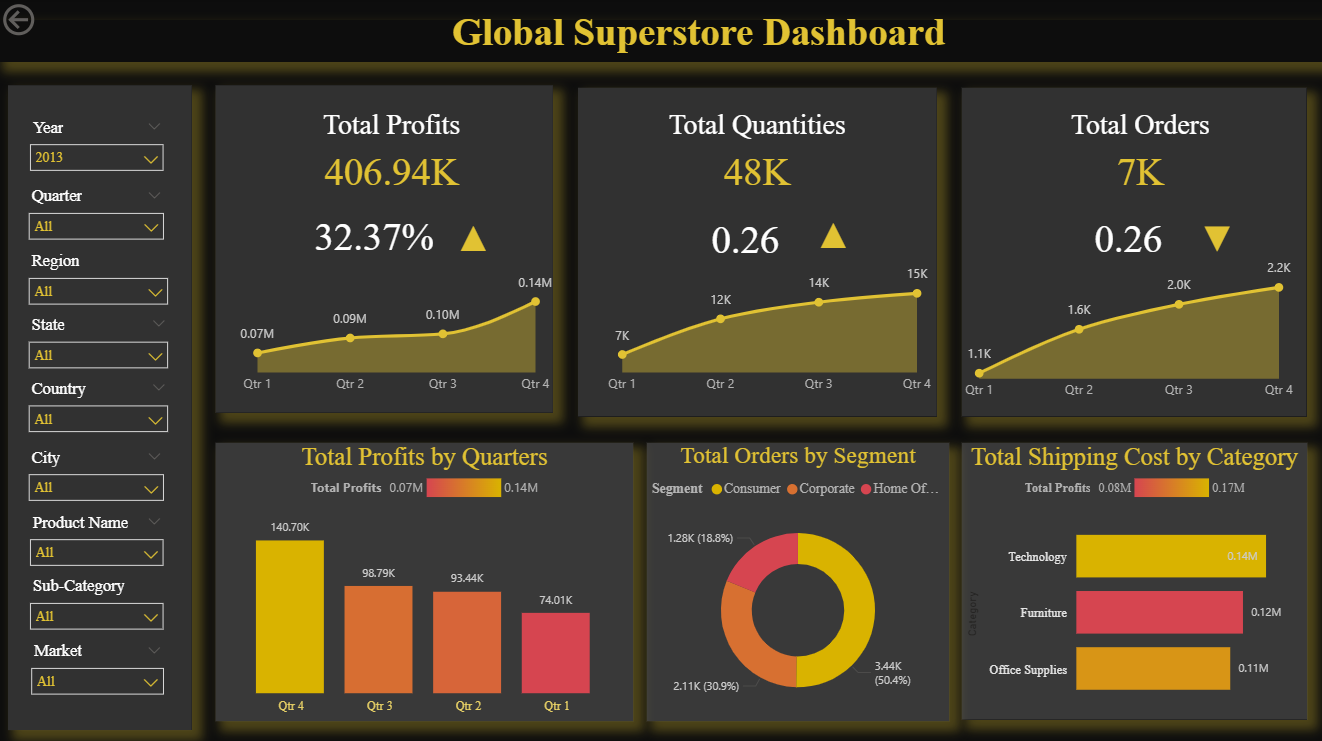

What the dashboard file says about the page in this screenshot:
{"tool":"powerbi","page":{"name":"Dashboard","canvas":[1280,720],"ordinal":1},"visuals":[{"type":"textbox","box":[555,0,331.8,71.2],"z":0},{"type":"shape","box":[0,10.9,1280,39.8],"z":1000},{"type":"shape","box":[209.9,83.2,325.7,316.1],"z":2000},{"type":"cardVisual","title":"Total Profits","fields":{"Data":["Calender.Total Profits"]},"box":[273.9,90.5,212.3,100.1],"z":3000},{"type":"lineChart","title":"Total Profits by Year","fields":{"Category":["calender.Date.Variation.Date Hierarchy.Quarter"],"Y":["Calender.Total Profits"]},"box":[209.9,234,349.9,155.6],"z":4000},{"type":"cardVisual","title":"Total Profits","fields":{"Data":["Calender.%YOY"]},"box":[277.5,183.4,171.3,76],"z":5000},{"type":"shape","box":[559.8,85.7,346.2,317.3],"z":6000},{"type":"cardVisual","title":"Total Profits","fields":{"Data":["Calender.Total Quantities"]},"box":[626.1,90.5,213.5,101.3],"z":7000},{"type":"lineChart","title":"Total Profits by Year","fields":{"Category":["calender.Date.Variation.Date Hierarchy.Quarter"],"Y":["Calender.Total Quantities"]},"box":[559.8,234,370.4,155.6],"z":8000},{"type":"cardVisual","title":"Total Profits","fields":{"Data":["Calender.%YOY Quantitiy"]},"box":[635.8,185.8,171.3,76],"z":9000},{"type":"shape","box":[930.2,85.7,333,317.3],"z":10000},{"type":"cardVisual","title":"Total Profits","fields":{"Data":["Calender.Total orders"]},"box":[990.5,90.5,224.4,101.3],"z":11000},{"type":"lineChart","title":"Total Profits by Year","fields":{"Category":["calender.Date.Variation.Date Hierarchy.Quarter"],"Y":["Calender.Total orders"]},"box":[903.6,241.3,376.4,154.4],"z":12000},{"type":"cardVisual","title":"Total Profits","fields":{"Data":["Calender.%YOY Orders"]},"box":[1005,184.6,172.5,77.2],"z":13000},{"type":"shape","box":[9.7,83.2,177.3,622.5],"z":14000},{"type":"slicer","title":"Total Profits","fields":{"Values":["Orders.State"]},"box":[19.2,300.5,155.1,65.9],"z":15000},{"type":"slicer","title":"Total Profits","fields":{"Values":["Orders.City"]},"box":[19.2,428.1,150.9,63.1],"z":16000},{"type":"slicer","title":"Total Profits","fields":{"Values":["Orders.Country"]},"box":[19.2,362.3,155.1,65.9],"z":17000},{"type":"slicer","title":"Total Profits","fields":{"Values":["calender.Date.Variation.Date Hierarchy.Year"]},"box":[20.6,109.8,149.6,65.9],"z":18000},{"type":"slicer","title":"Total Profits","fields":{"Values":["Orders.Sub-Category"]},"box":[20.6,553,149.6,61.7],"z":19000},{"type":"slicer","title":"Total Profits","fields":{"Values":["Orders.Region"]},"box":[19.2,238.8,155.1,61.7],"z":20000},{"type":"slicer","title":"Total Profits","fields":{"Values":["calender.Date.Variation.Date Hierarchy.Quarter"]},"box":[19.2,175.6,150.9,61.7],"z":21000},{"type":"slicer","title":"Total Profits","fields":{"Values":["Orders.Product Name"]},"box":[20.6,491.3,149.6,61.7],"z":22000},{"type":"slicer","title":"Total Profits","fields":{"Values":["Orders.Market"]},"box":[22,614.8,148.2,61.7],"z":23000},{"type":"clusteredColumnChart","title":"Total Profits by Quarters","fields":{"Y":["Calender.Total Profits"],"Category":["calender.Date.Variation.Date Hierarchy.Quarter"]},"box":[209.9,428.1,403.4,269],"z":24000},{"type":"actionButton","box":[0,0,100,40],"z":25000},{"type":"donutChart","title":"Total Orders by Segment","fields":{"Category":["Orders.Segment"],"Y":["Calender.Total orders"]},"box":[625.7,428.1,292.3,269],"z":26000},{"type":"clusteredBarChart","title":"Total Shipping Cost by Category","fields":{"Category":["Orders.Category"],"Y":["Sum(Orders.Shipping Cost)"]},"box":[930.4,428.1,333.4,267.6],"z":27000},{"type":"cardVisual","fields":{"Data":["Orders.arrow1"]},"box":[424.7,184.6,68.8,85.7],"z":28000},{"type":"cardVisual","fields":{"Data":["Orders.arrow2"]},"box":[772.1,182.2,68.8,85.7],"z":29000},{"type":"cardVisual","fields":{"Data":["Orders.arrow3"]},"box":[1142.5,184.6,68.8,85.7],"z":30000}]}

Visuals, with their boxes in screenshot pixels (x1, y1, x2, y2), scaled from the page's 1280x720 canvas onto the 1322x741 screenshot:
textbox: (left=573, top=0, right=916, bottom=73)
shape: (left=0, top=11, right=1321, bottom=52)
shape: (left=217, top=86, right=553, bottom=411)
"Total Profits" cardVisual: (left=283, top=93, right=502, bottom=196)
"Total Profits by Year" lineChart: (left=217, top=241, right=578, bottom=401)
"Total Profits" cardVisual: (left=287, top=189, right=464, bottom=267)
shape: (left=578, top=88, right=936, bottom=415)
"Total Profits" cardVisual: (left=647, top=93, right=867, bottom=197)
"Total Profits by Year" lineChart: (left=578, top=241, right=961, bottom=401)
"Total Profits" cardVisual: (left=657, top=191, right=834, bottom=269)
shape: (left=961, top=88, right=1305, bottom=415)
"Total Profits" cardVisual: (left=1023, top=93, right=1255, bottom=197)
"Total Profits by Year" lineChart: (left=933, top=248, right=1321, bottom=407)
"Total Profits" cardVisual: (left=1038, top=190, right=1216, bottom=269)
shape: (left=10, top=86, right=193, bottom=726)
"Total Profits" slicer: (left=20, top=309, right=180, bottom=377)
"Total Profits" slicer: (left=20, top=441, right=176, bottom=506)
"Total Profits" slicer: (left=20, top=373, right=180, bottom=441)
"Total Profits" slicer: (left=21, top=113, right=176, bottom=181)
"Total Profits" slicer: (left=21, top=569, right=176, bottom=633)
"Total Profits" slicer: (left=20, top=246, right=180, bottom=309)
"Total Profits" slicer: (left=20, top=181, right=176, bottom=244)
"Total Profits" slicer: (left=21, top=506, right=176, bottom=569)
"Total Profits" slicer: (left=23, top=633, right=176, bottom=696)
"Total Profits by Quarters" clusteredColumnChart: (left=217, top=441, right=633, bottom=717)
actionButton: (left=0, top=0, right=103, bottom=41)
"Total Orders by Segment" donutChart: (left=646, top=441, right=948, bottom=717)
"Total Shipping Cost by Category" clusteredBarChart: (left=961, top=441, right=1305, bottom=716)
cardVisual - Orders.arrow1: (left=439, top=190, right=510, bottom=278)
cardVisual - Orders.arrow2: (left=797, top=188, right=868, bottom=276)
cardVisual - Orders.arrow3: (left=1180, top=190, right=1251, bottom=278)
